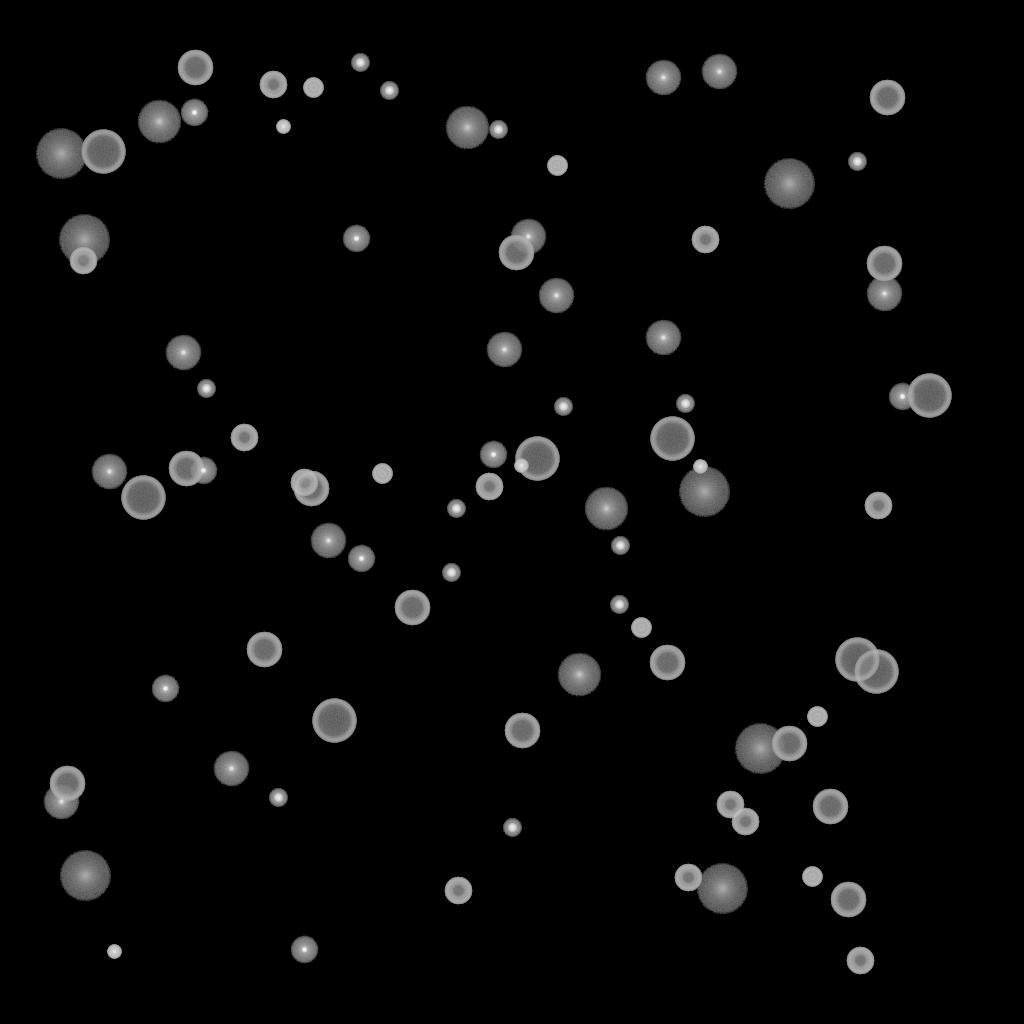depth:-10: (290, 936, 318, 964), (479, 441, 507, 469), (189, 457, 217, 485), (151, 675, 179, 703), (347, 545, 375, 573), (180, 99, 208, 127), (342, 225, 370, 253), (888, 383, 916, 411)
depth:-20: (676, 395, 694, 413), (269, 789, 287, 807), (611, 537, 629, 555), (447, 500, 465, 518), (380, 82, 398, 100), (848, 153, 866, 171), (503, 819, 521, 837), (351, 54, 369, 72), (489, 121, 507, 139), (442, 564, 460, 582), (610, 596, 628, 614), (554, 398, 572, 416), (197, 380, 215, 398)
depth:-30: (107, 945, 121, 959), (514, 459, 528, 473), (276, 120, 290, 134), (693, 460, 707, 474)
depth:-40: (372, 464, 392, 484), (807, 707, 827, 727), (802, 867, 822, 887), (303, 78, 323, 98), (631, 618, 651, 638), (547, 156, 567, 176)
depth:-50: (259, 71, 287, 99), (731, 808, 759, 836), (290, 469, 318, 497), (69, 247, 97, 275), (230, 424, 258, 452), (475, 473, 503, 501), (864, 492, 892, 520), (674, 864, 702, 892), (444, 877, 472, 905), (691, 226, 719, 254), (846, 947, 874, 975), (716, 791, 744, 819)
depth:-60: (293, 471, 329, 507), (394, 590, 430, 626), (812, 789, 848, 825), (49, 766, 85, 802), (177, 50, 213, 86), (649, 645, 685, 681), (504, 713, 540, 749), (498, 235, 534, 271), (830, 882, 866, 918), (869, 80, 905, 116), (246, 632, 282, 668), (866, 246, 902, 282), (168, 451, 204, 487), (771, 726, 807, 762)
depth:-70: (650, 417, 694, 461), (854, 650, 898, 694), (835, 638, 879, 682), (81, 130, 125, 174), (907, 374, 951, 418), (312, 699, 356, 743), (121, 476, 165, 520), (515, 437, 559, 481)
depth:0: (701, 54, 737, 90), (310, 523, 346, 559), (538, 278, 574, 314), (486, 332, 522, 368), (43, 784, 79, 820), (213, 751, 249, 787), (165, 335, 201, 371), (91, 454, 127, 490), (510, 219, 546, 255), (645, 60, 681, 96), (866, 276, 902, 312), (645, 320, 681, 356)
depth:10: (557, 653, 601, 697), (137, 100, 181, 144), (584, 487, 628, 531), (445, 106, 489, 150)
depth:20: (734, 724, 786, 774), (35, 129, 87, 179), (696, 864, 748, 914), (58, 215, 110, 265), (763, 159, 815, 209), (678, 467, 730, 517), (59, 851, 111, 901)
